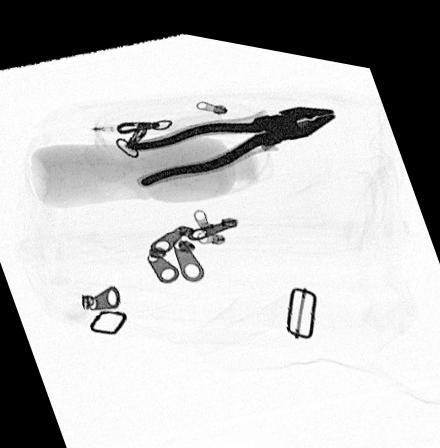Pliers: (118, 91, 339, 182)
